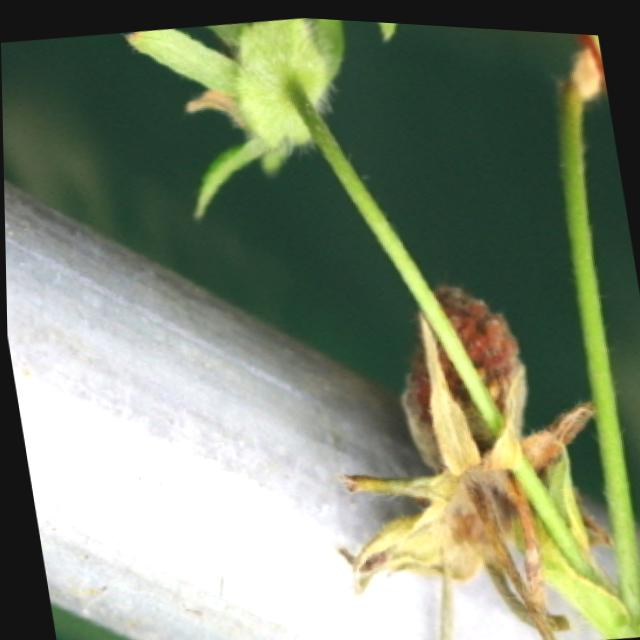Gray Mold: (332, 277, 597, 640)
